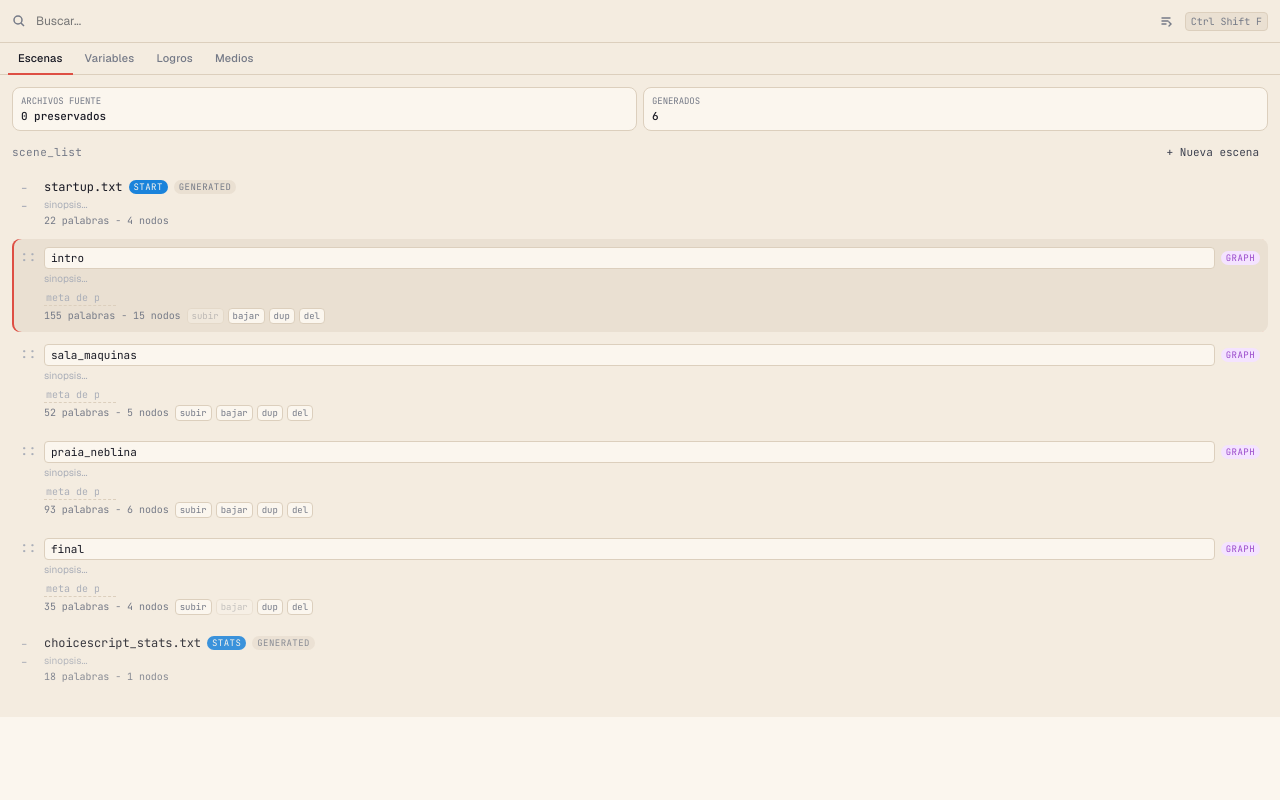
LeftPanel — replace status uses i18n keys › 0-match replace in ES shows 'sin coincidencias'
In the field with placeholder "Buscar...": (590, 21) x1=34 y1=12 x2=1147 y2=30, type "anything"
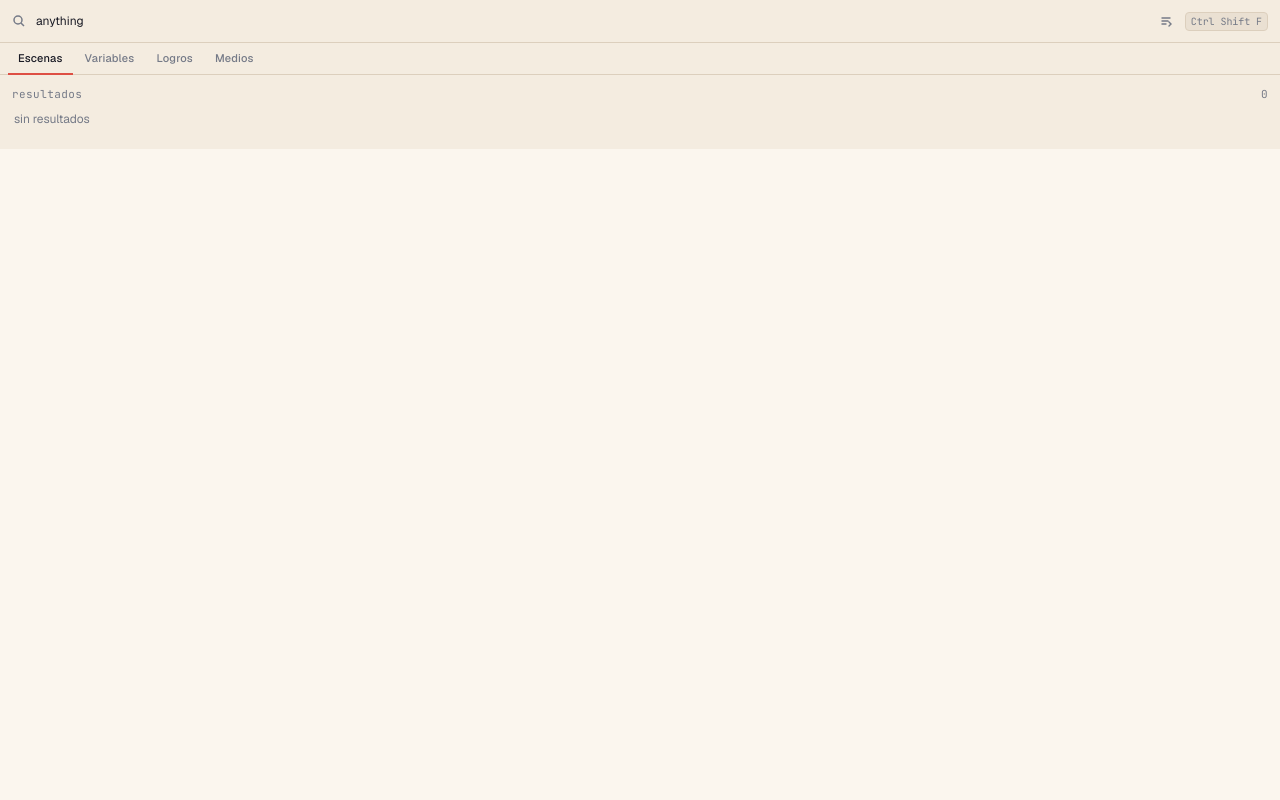
Click the button titled "find & replace (Ctrl H)": (1166, 21) x1=1155 y1=10 x2=1177 y2=32
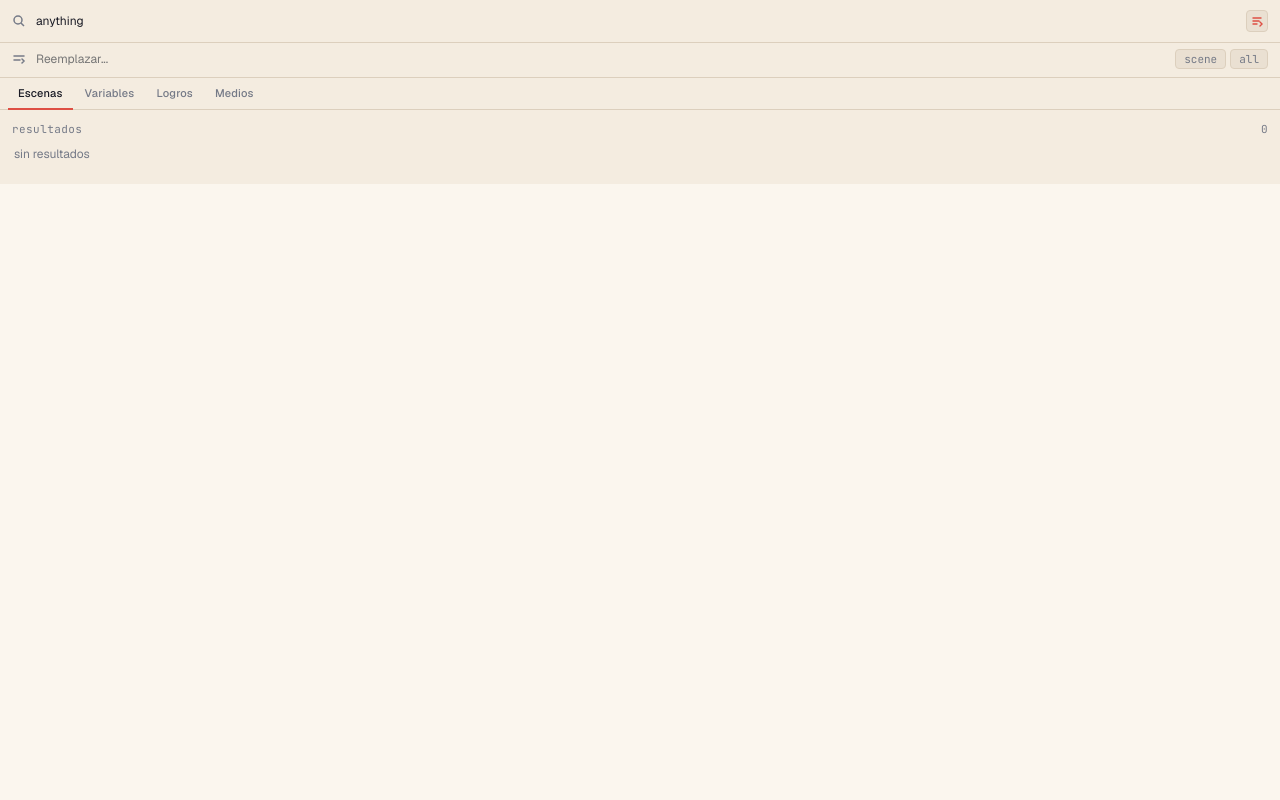
Click the button "scene": (1201, 59) x1=1175 y1=49 x2=1226 y2=69
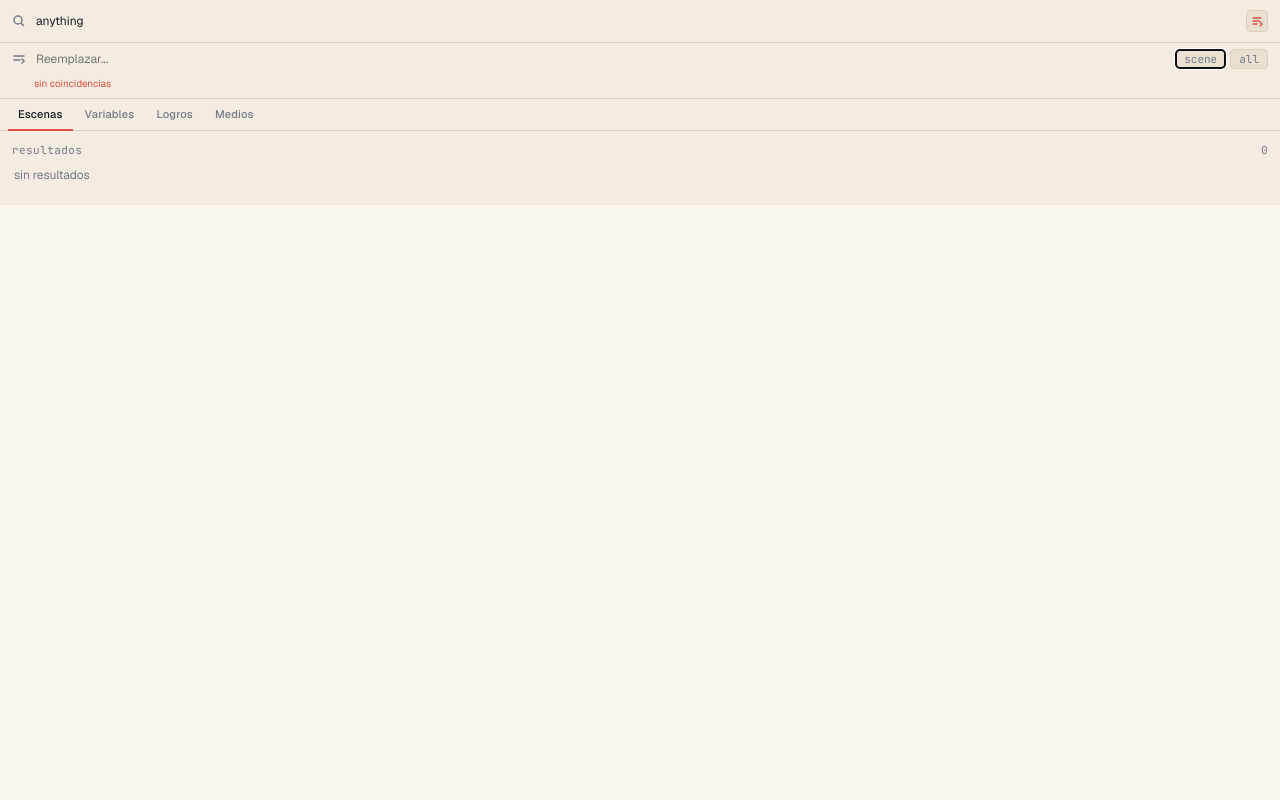
Now the text "sin coincidencias" is shown, box x1=34 y1=77 x2=111 y2=90
